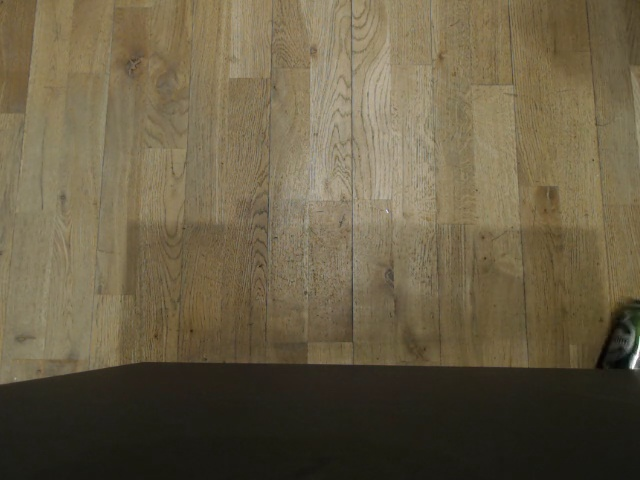beer: (595, 295, 640, 368)
